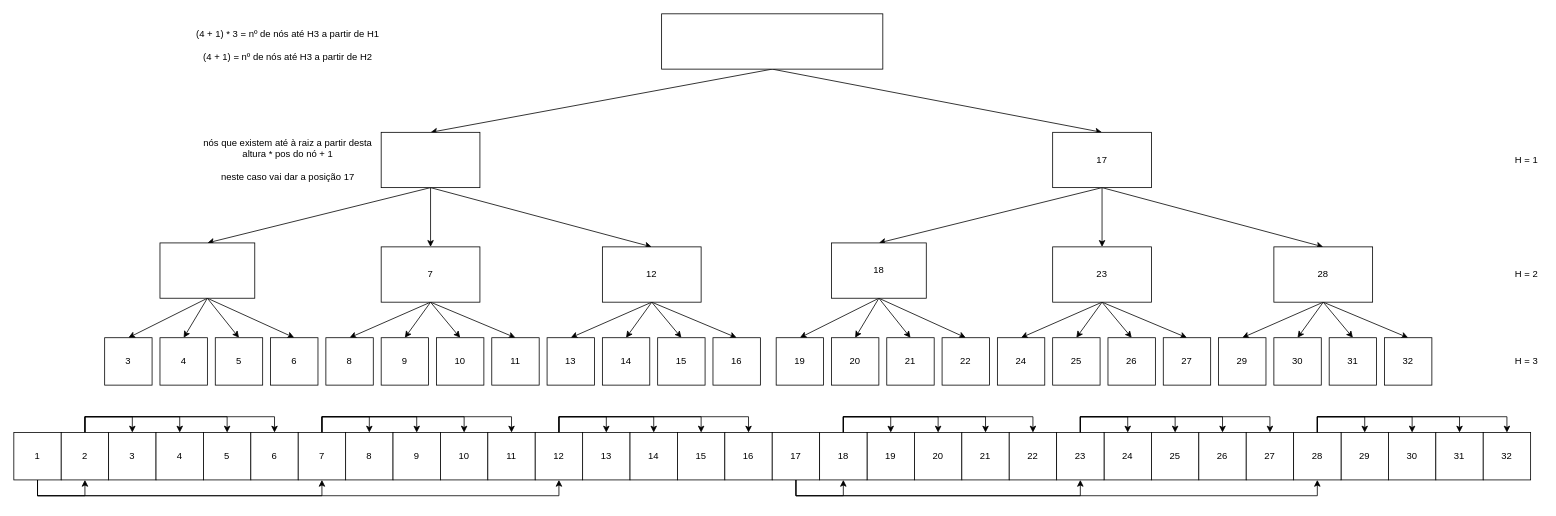
This 1556x516 diagram has some shape labels left out. Here are the shapes that lost their labels. From the top down, the centre of each, then its label:
At (x=772, y=41): "0 int[1, 17]".
At (x=430, y=160): "1 int[2, 7, 12]".
At (x=207, y=270): "2 int[3, 4, 5, 6]".
